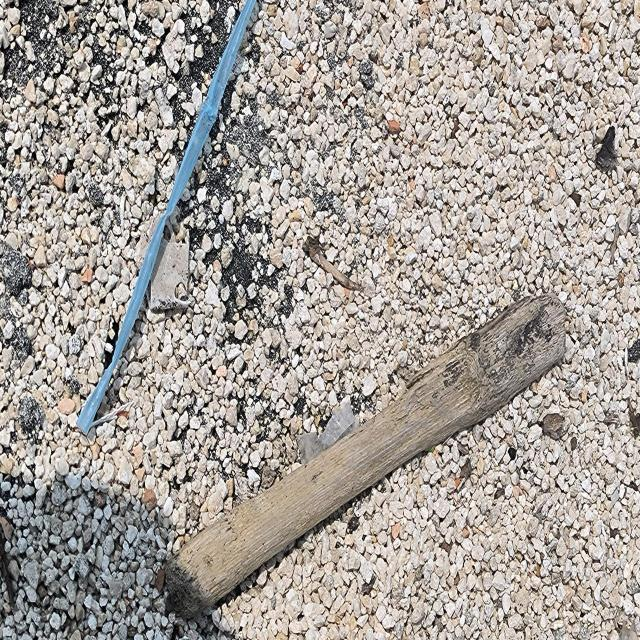litter: (169, 284, 577, 630), (85, 0, 283, 424)
